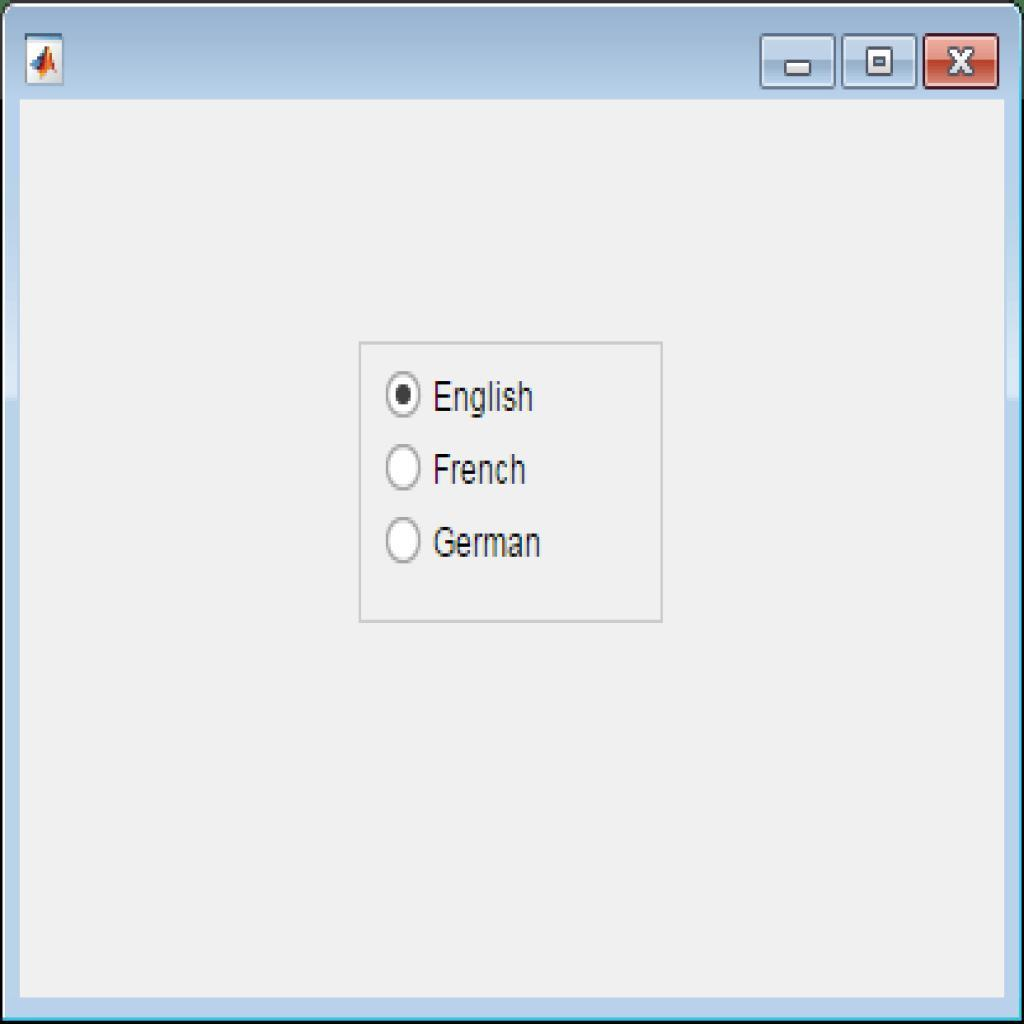label: (434, 373, 539, 421), (432, 523, 544, 565), (432, 446, 533, 492)
radio: (382, 436, 426, 503), (382, 364, 426, 427), (383, 516, 429, 573)
